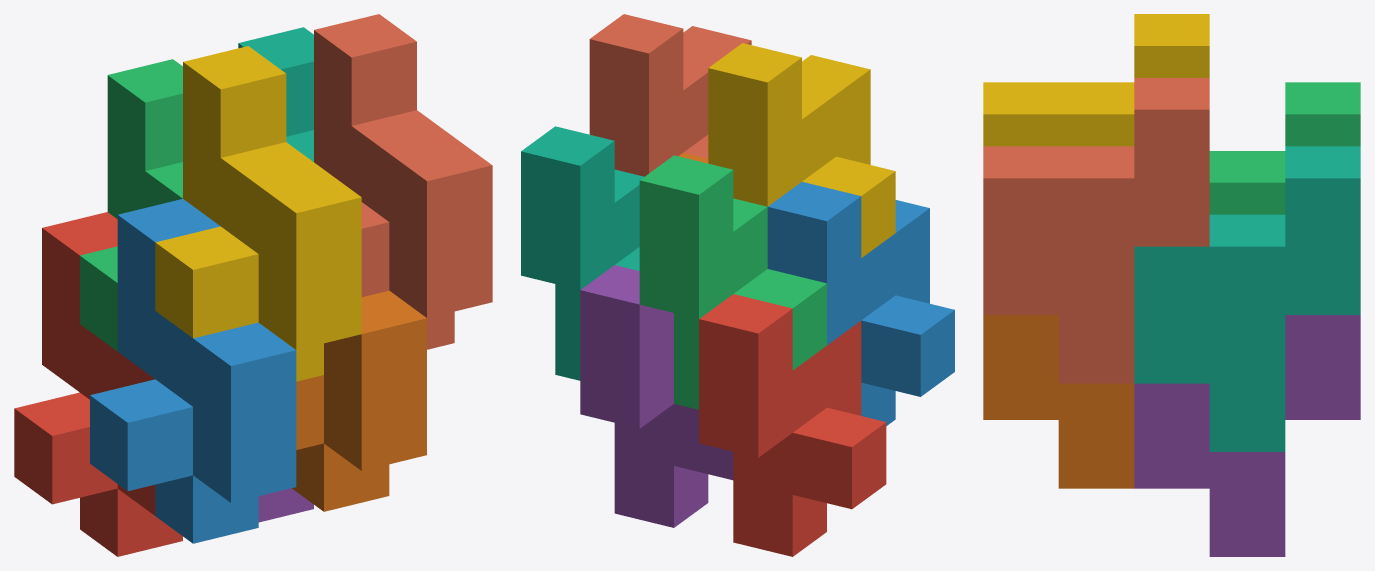
File: tiling.obj
3 renders of one model, left to right at view 1: azimuth 30°, elevation 25°; view 2: azimuth 150°, elevation 25°; view 3: azimuth 270°, elevation 25°, orthographic. The views are drawn at different scales.
Parts seen in each view (by area): view 1: copy_1_domain_4, copy_1_domain_2, copy_1_domain_8, copy_1_domain_1, copy_1_domain_6, copy_1_domain_3, copy_1_domain_7, copy_1_domain_5; view 2: copy_1_domain_1, copy_1_domain_2, copy_1_domain_4, copy_1_domain_3, copy_1_domain_5, copy_1_domain_7, copy_1_domain_8; view 3: copy_1_domain_8, copy_1_domain_7, copy_1_domain_5, copy_1_domain_6, copy_1_domain_4, copy_1_domain_3.
Part boxes in pixels (box(x1,y1,x2,y2)): copy_1_domain_4: box(155, 46, 361, 381); copy_1_domain_2: box(90, 199, 296, 543); copy_1_domain_8: box(314, 14, 492, 349); copy_1_domain_1: box(14, 212, 182, 556); copy_1_domain_6: box(292, 290, 426, 511); copy_1_domain_3: box(80, 59, 182, 351); copy_1_domain_7: box(238, 27, 313, 161); copy_1_domain_5: box(258, 488, 313, 522); copy_1_domain_1: box(699, 294, 886, 556); copy_1_domain_2: box(767, 182, 954, 425); copy_1_domain_4: box(708, 43, 895, 257); copy_1_domain_3: box(639, 155, 826, 409); copy_1_domain_5: box(580, 265, 733, 527); copy_1_domain_7: box(521, 126, 644, 380); copy_1_domain_8: box(589, 14, 751, 176); copy_1_domain_8: box(983, 78, 1209, 383); copy_1_domain_7: box(1134, 146, 1360, 451); copy_1_domain_5: box(1134, 315, 1360, 556); copy_1_domain_6: box(983, 315, 1134, 488); copy_1_domain_4: box(983, 14, 1209, 146); copy_1_domain_3: box(1209, 82, 1360, 214).
Size of the model in its own units: 5 by 7 by 5.
